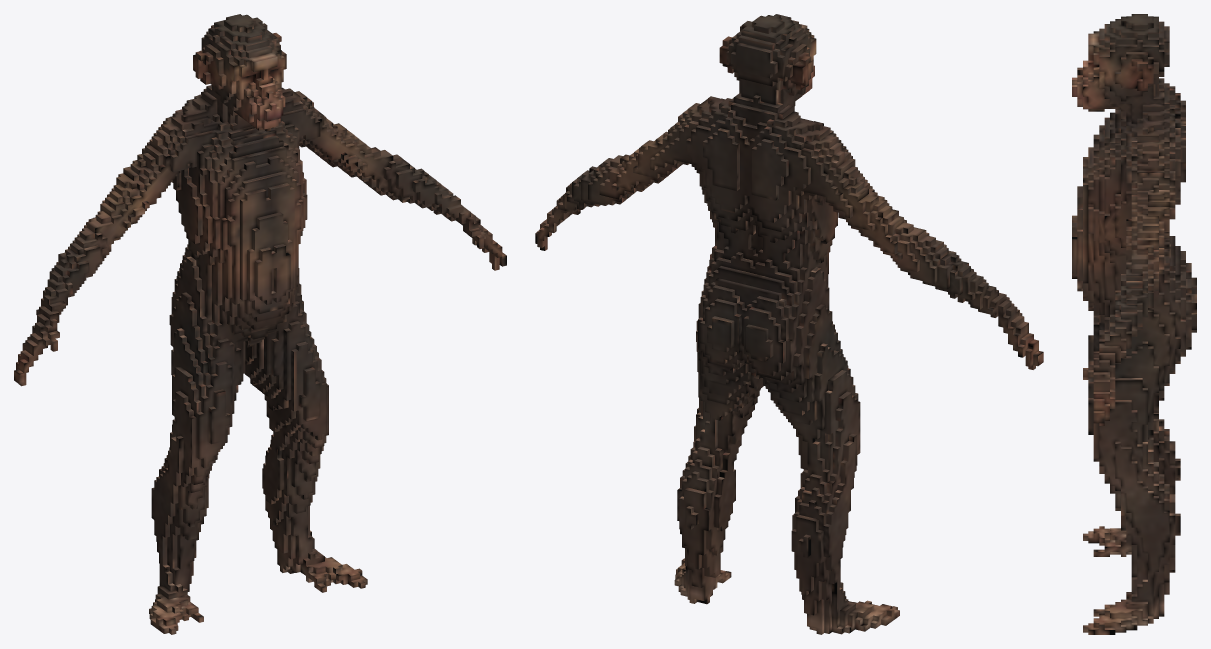
Rendered from ape_Idle.fbx.
The picture shows the model from 3 angles, left to right: view 1: azimuth 30°, elevation 25°; view 2: azimuth 150°, elevation 25°; view 3: azimuth 270°, elevation 25°; orthographic projection. The views are drawn at different scales.
Visible parts, largest first — view 1: Default.001; view 2: Default.001; view 3: Default.001.
Boxes of the visible parts, left/top/right/bottom form: Default.001: left=14, top=14, right=506, bottom=634; Default.001: left=535, top=14, right=1043, bottom=634; Default.001: left=1072, top=14, right=1196, bottom=634.
Size of the model in its own units: 171 by 191 by 38.11.
